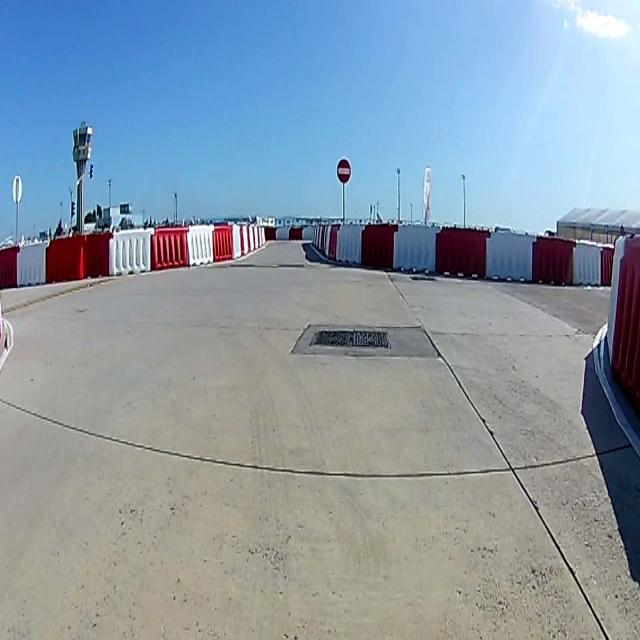girisyok: (337, 157, 351, 183)
